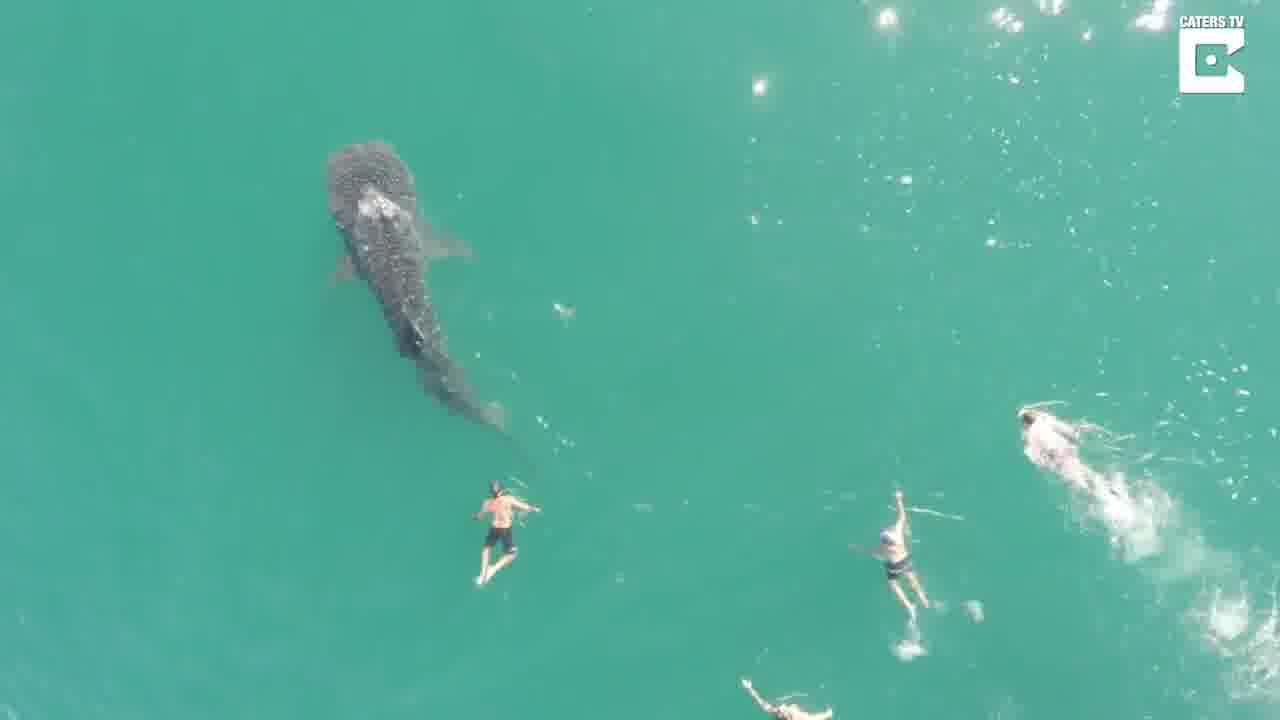human: (864, 480, 932, 631), (452, 484, 549, 586), (1004, 394, 1079, 482), (741, 674, 831, 720)
